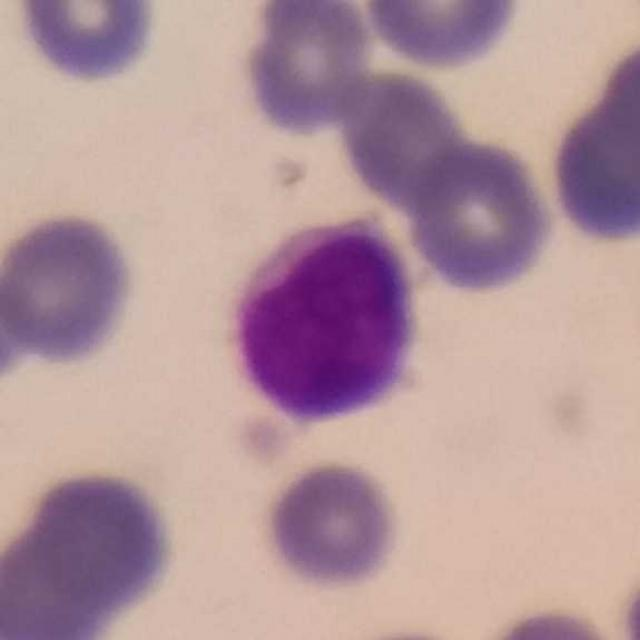RBC: (215, 210, 431, 434), (0, 462, 183, 640), (401, 134, 558, 297), (0, 207, 142, 373), (258, 456, 405, 596), (544, 46, 640, 256), (334, 67, 475, 209), (235, 1, 377, 139), (10, 0, 163, 88), (0, 529, 112, 639), (359, 0, 527, 73), (0, 226, 38, 407), (473, 603, 628, 640)
